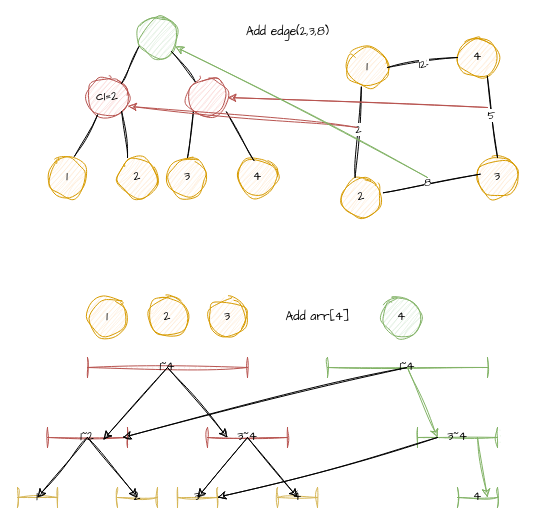
This 535x525 diagram has some shape labels left out. Each missing label, with the box of its shape:
c2=5: (186, 76, 228, 118)
c3=8: (136, 16, 178, 58)
